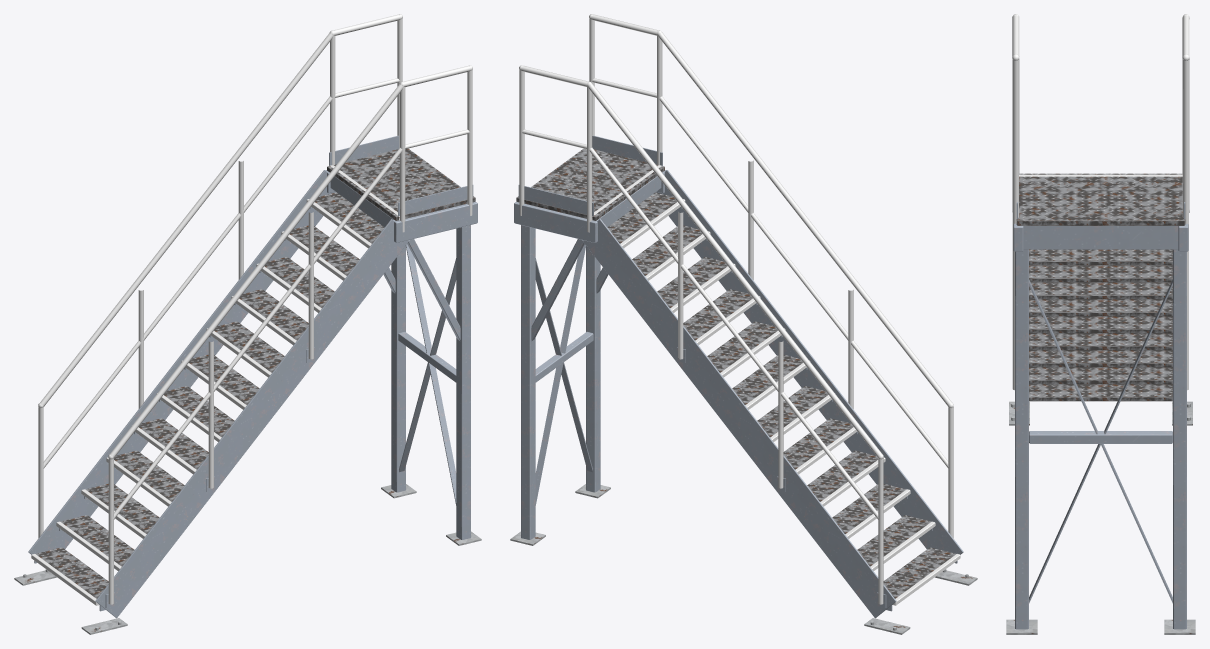
Rendered from stairs_metal.glb.
3 views of the same model, side by side, from view 1: azimuth 30°, elevation 25°; view 2: azimuth 150°, elevation 25°; view 3: azimuth 270°, elevation 25° (orthographic). The views are drawn at different scales.
Visible parts, largest first — view 1: stairs_metal; view 2: stairs_metal; view 3: stairs_metal.
Part boxes in pixels (box(x1,y1,x2,y2)): stairs_metal: box(14, 14, 481, 634); stairs_metal: box(510, 14, 977, 634); stairs_metal: box(1006, 14, 1195, 634).
Size of the model in its own units: 3.12 by 3.62 by 1.08.
4 materials, 4 textured.
